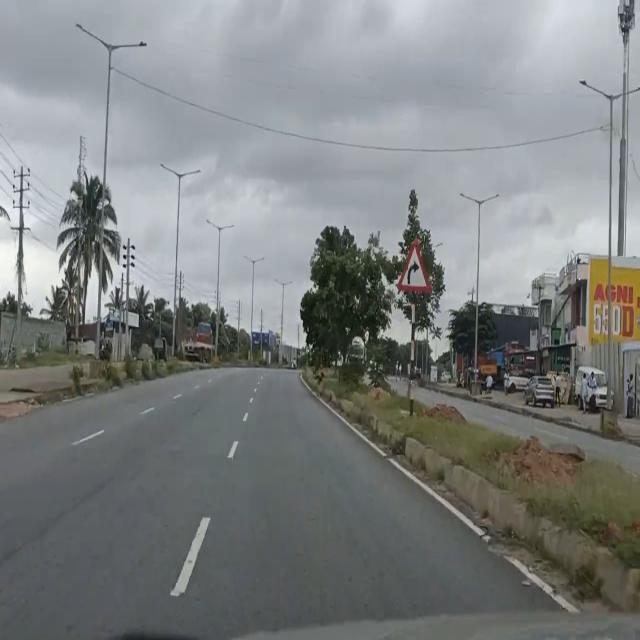bien_cam: (397, 237, 432, 297)
